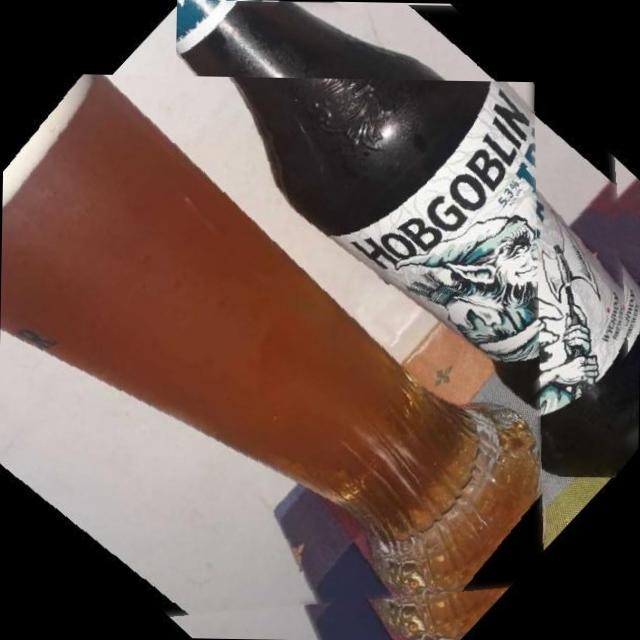Glass: (0, 71, 552, 639), (168, 0, 640, 476)
